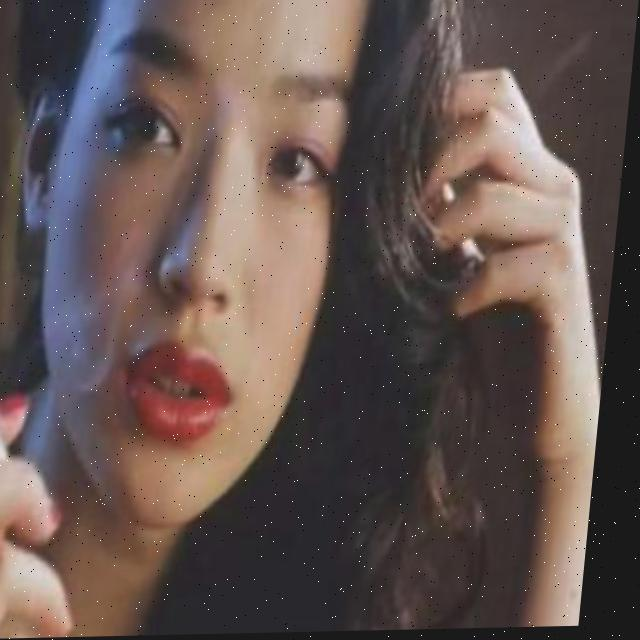cigarette: (0, 392, 30, 471)
